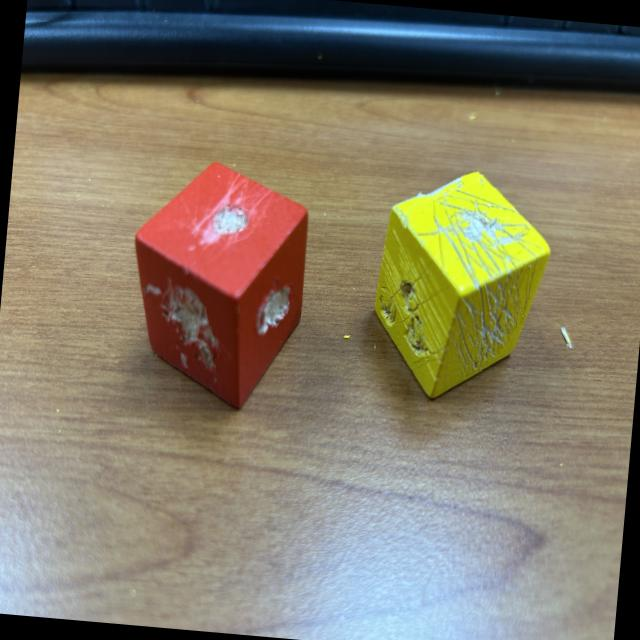broken: (120, 154, 314, 416), (366, 160, 557, 408)
